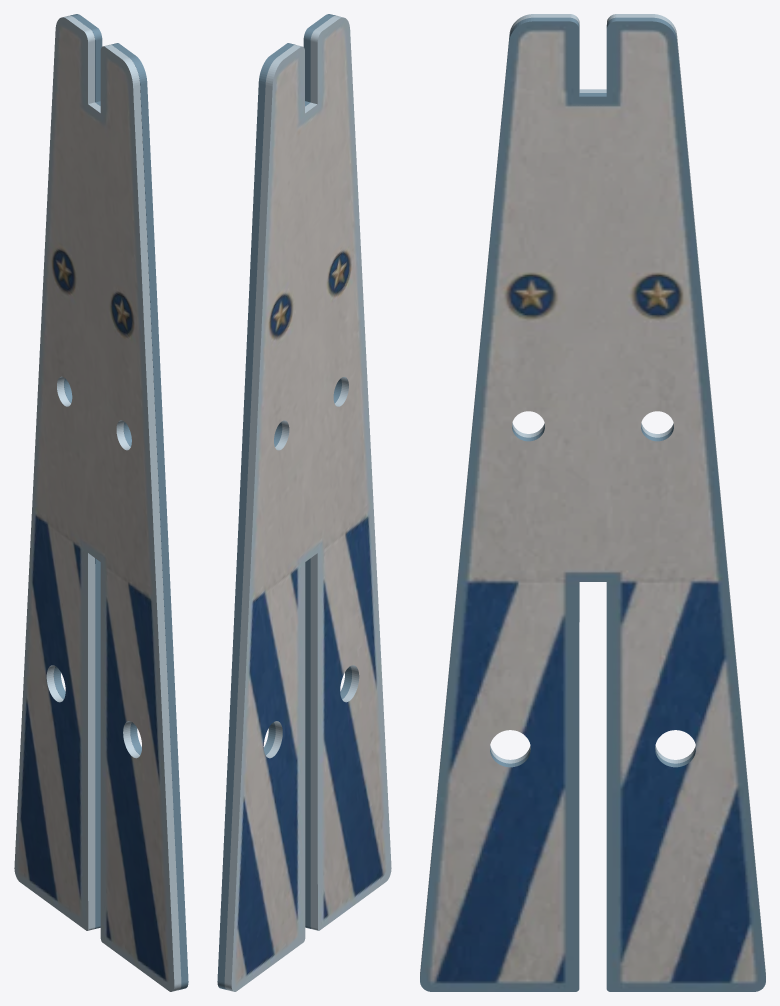
The model's file is connector-stabilizer-03.glb.
The picture shows the model from 3 angles, left to right: view 1: azimuth 30°, elevation 25°; view 2: azimuth 150°, elevation 25°; view 3: azimuth 270°, elevation 25°; orthographic projection. The views are drawn at different scales.
Parts seen in each view (by area): view 1: connector-stabilizer-03; view 2: connector-stabilizer-03; view 3: connector-stabilizer-03.
Boxes of the visible parts, left/top/right/bottom form: connector-stabilizer-03: left=14, top=14, right=188, bottom=991; connector-stabilizer-03: left=217, top=14, right=391, bottom=991; connector-stabilizer-03: left=420, top=14, right=765, bottom=991.
Bounding box in the file's own units: 18 × 1095 × 354.
4 materials, 2 textured.
